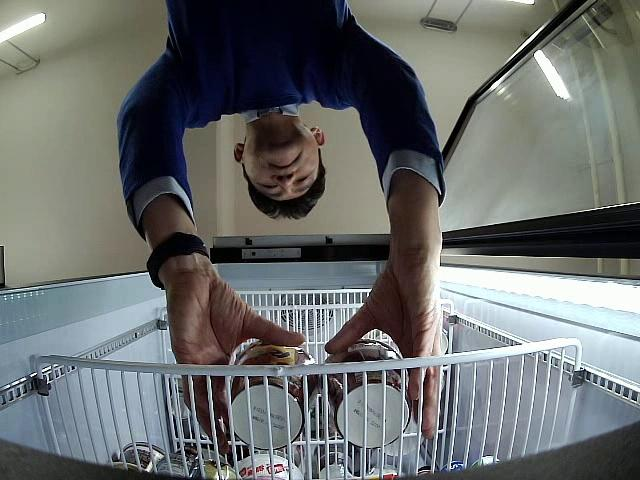00_hand: (325, 216, 442, 439), (166, 275, 306, 455)
06_nuguri_S: (321, 339, 413, 449), (232, 339, 320, 450)
